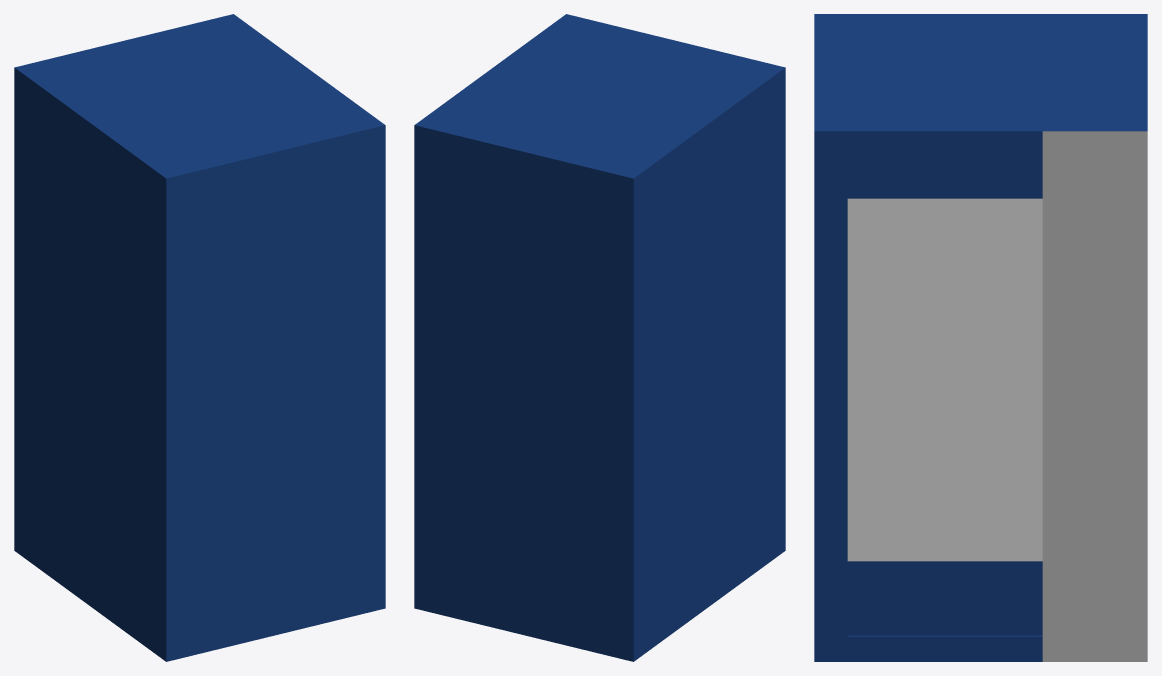
The model's file is wrld_vending_machine.gltf.
3 renders of one model, left to right at view 1: azimuth 30°, elevation 25°; view 2: azimuth 150°, elevation 25°; view 3: azimuth 270°, elevation 25°, orthographic. The views are drawn at different scales.
Parts seen in each view (by area): view 1: Cube; view 2: Cube; view 3: Cube, Cube.001.
Part boxes in pixels (x1,y1,x2,y2): Cube: [14, 14, 385, 661]; Cube: [414, 14, 785, 661]; Cube: [814, 14, 1147, 661]; Cube.001: [847, 198, 1042, 561].
Bounding box in the file's own units: 2 × 4.21 × 2.4.
